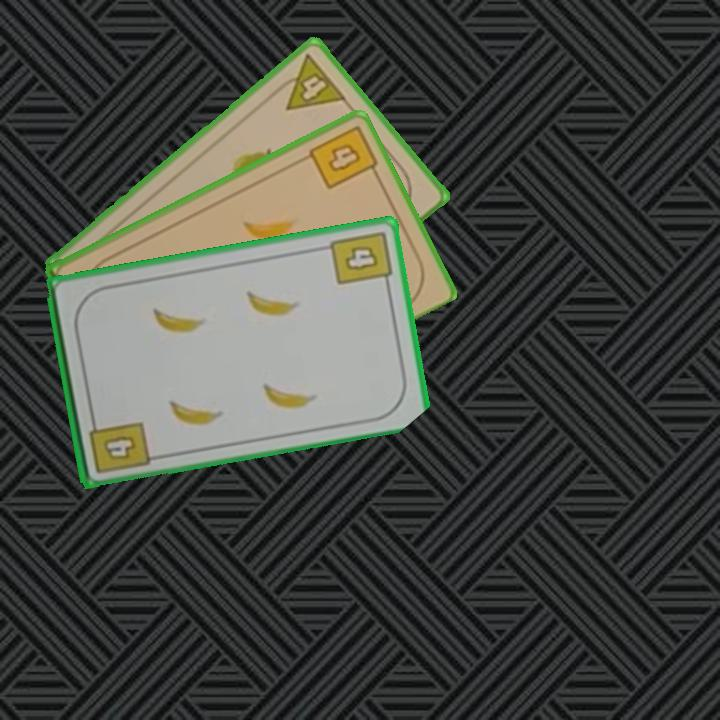4b: (305, 122, 383, 192), (85, 412, 152, 477), (326, 227, 394, 291)
4p: (269, 50, 349, 113)
